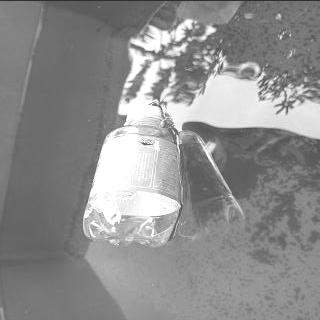bottle: (80, 103, 184, 248)
